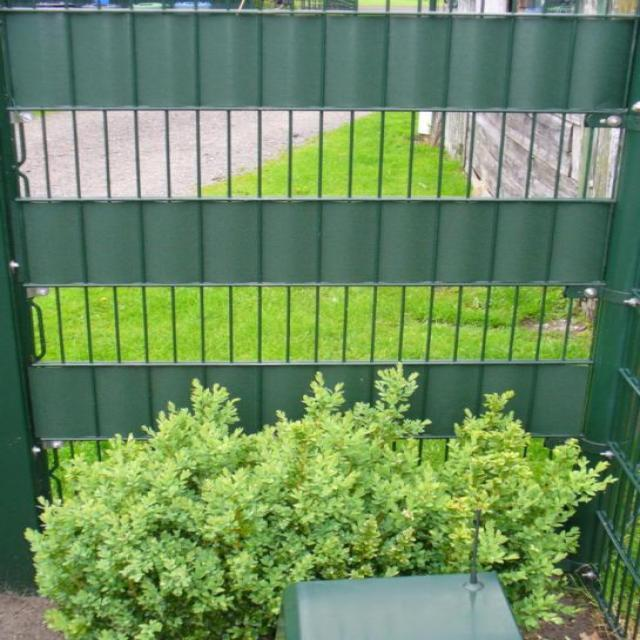fence line: (6, 14, 634, 523)
